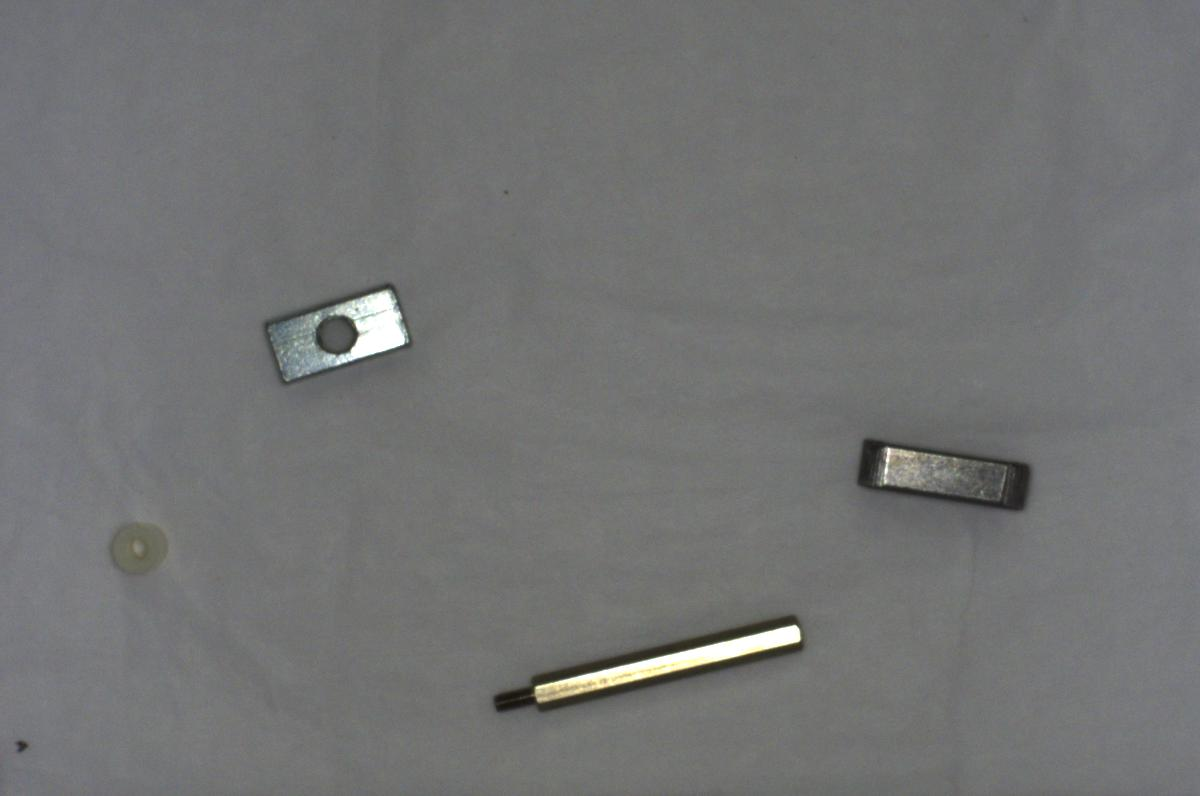Hexagonal steel column: (491, 623, 806, 721)
Keybar: (855, 432, 1034, 513)
Plastic cushion pillar: (104, 512, 170, 576)
Rectangular nut: (259, 276, 411, 393)
